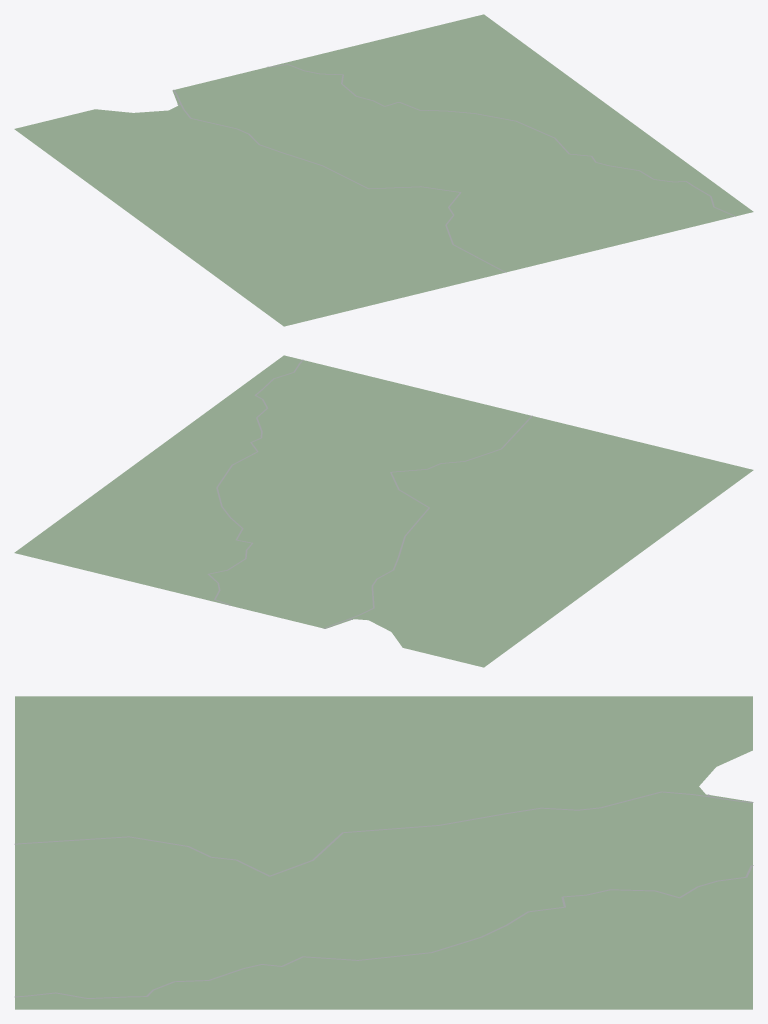
The model's file is -8_12-known-fine.glb.
3 views of the same model, one above another, from view 1: azimuth 30°, elevation 25°; view 2: azimuth 150°, elevation 25°; view 3: azimuth 270°, elevation 25° (orthographic). The views are drawn at different scales.
Bounding box in the file's own units: 1000 × 0.1 × 998.
